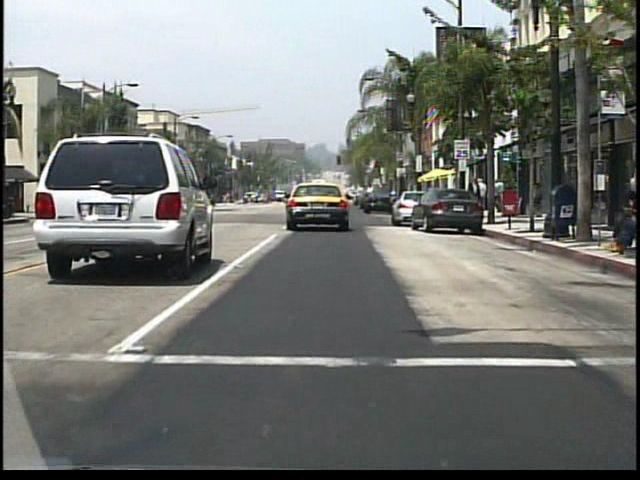person: (576, 195, 629, 252), (467, 175, 483, 220), (477, 178, 490, 216), (499, 181, 511, 216), (488, 183, 500, 215)
